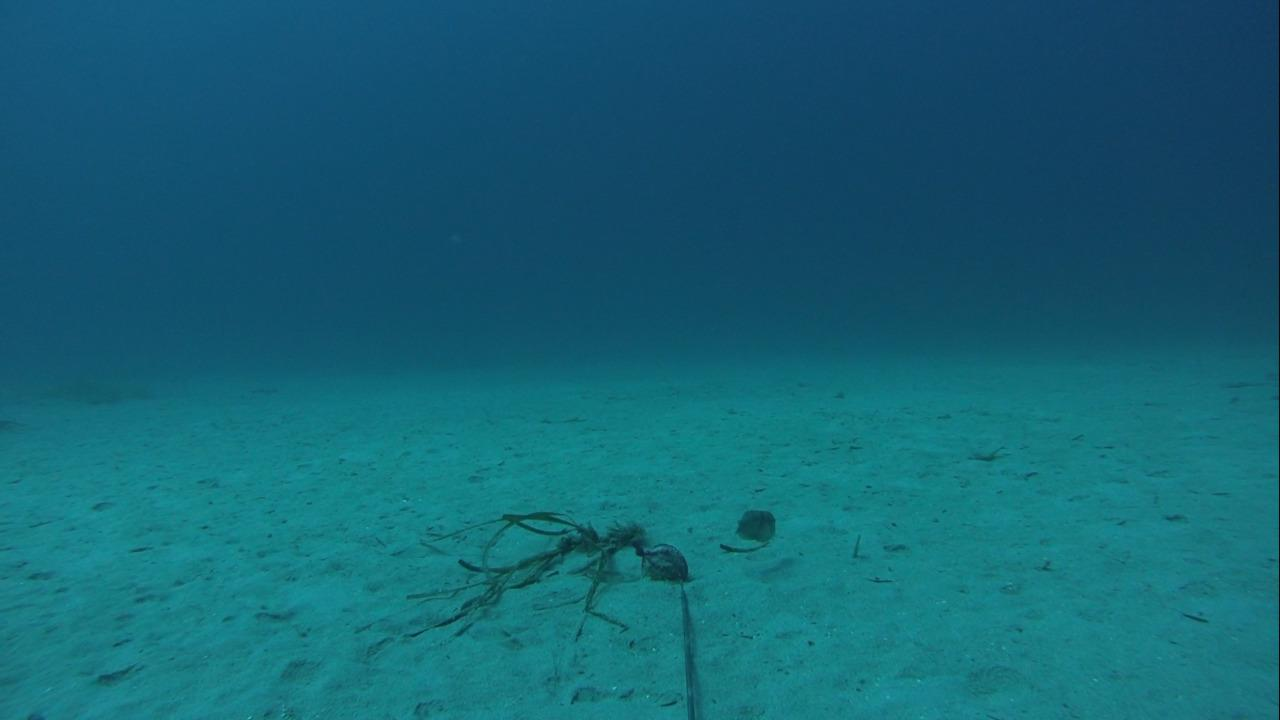raor: (728, 501, 781, 550)
